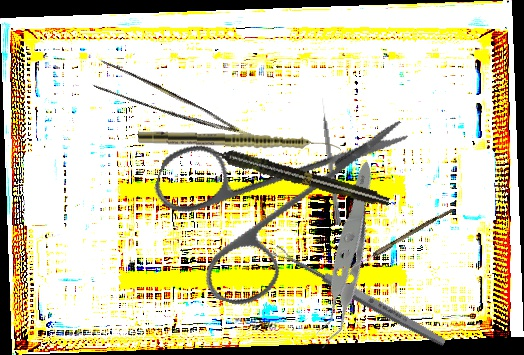Handpiece: (199, 140, 392, 210), (137, 130, 342, 153)
Iris Scissors: (127, 55, 412, 340)
Pusher: (319, 97, 343, 226)
Surgical Spoon: (271, 243, 448, 349), (345, 205, 454, 275)
Tissue Forceps: (249, 160, 438, 353), (87, 54, 251, 162)
